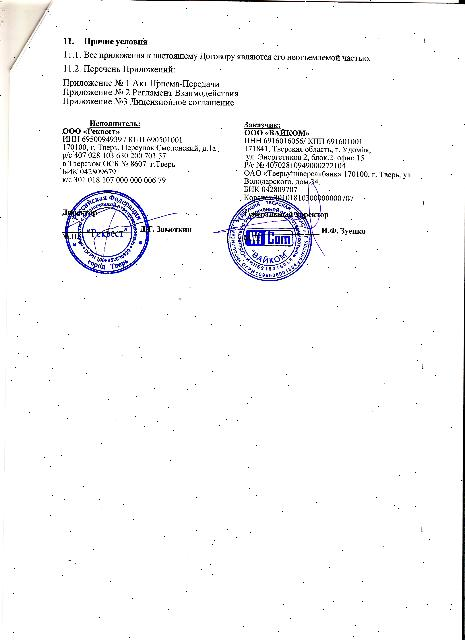stamp: (63, 189, 149, 275), (227, 198, 313, 282)
